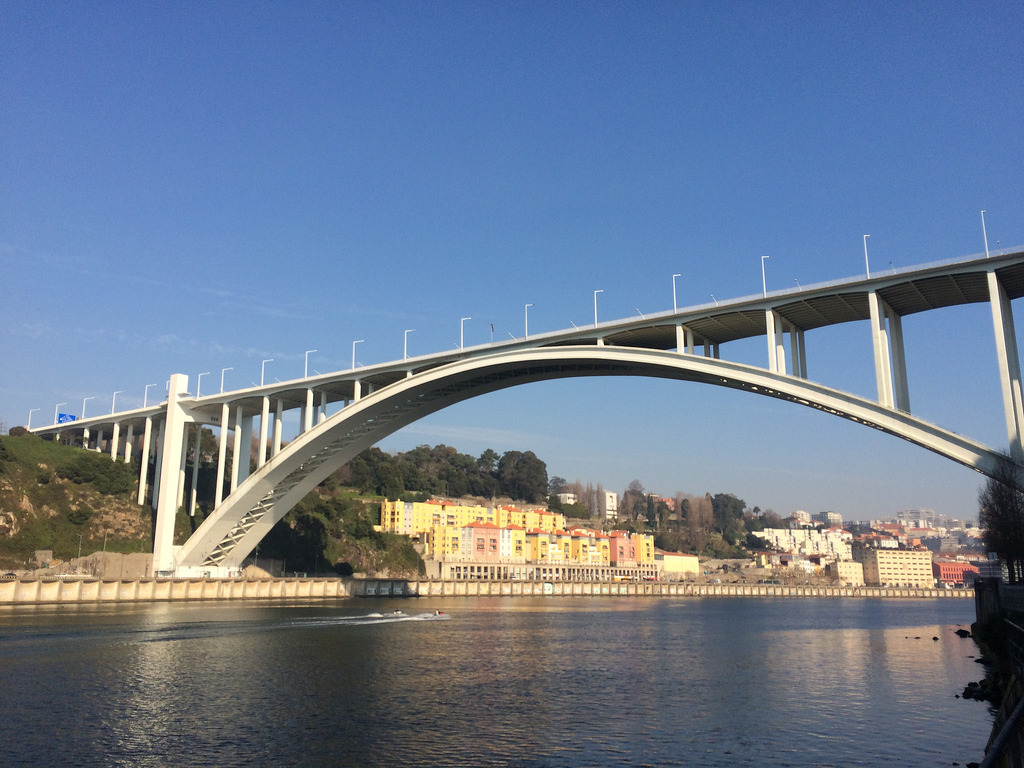arrabida: (0, 246, 1023, 579)
